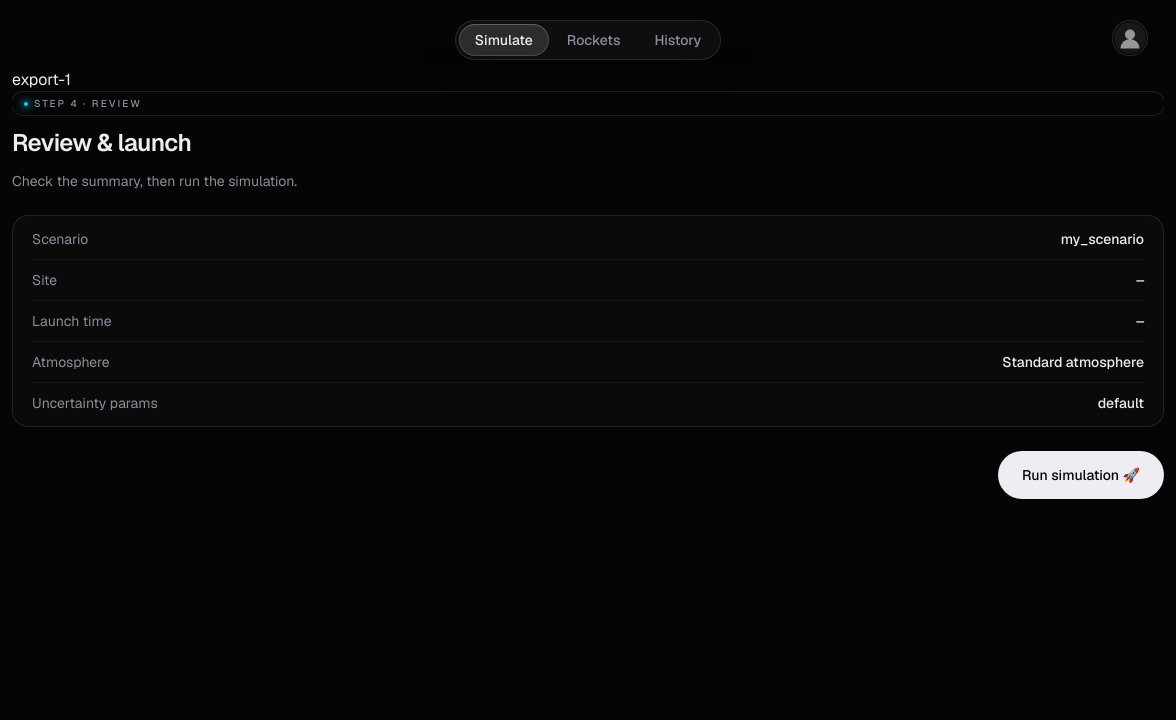
it: ReviewStep (issue #48 — shared simulate mutation) › shows field errors from a 422 without navigating
Check: the text with test id "export-id" reads "export-1", box top-left (12, 69), bottom-right (71, 90)
Click the button "Run simulation 🚀". click: (1081, 475)
box: top-left (998, 451), bottom-right (1164, 499)
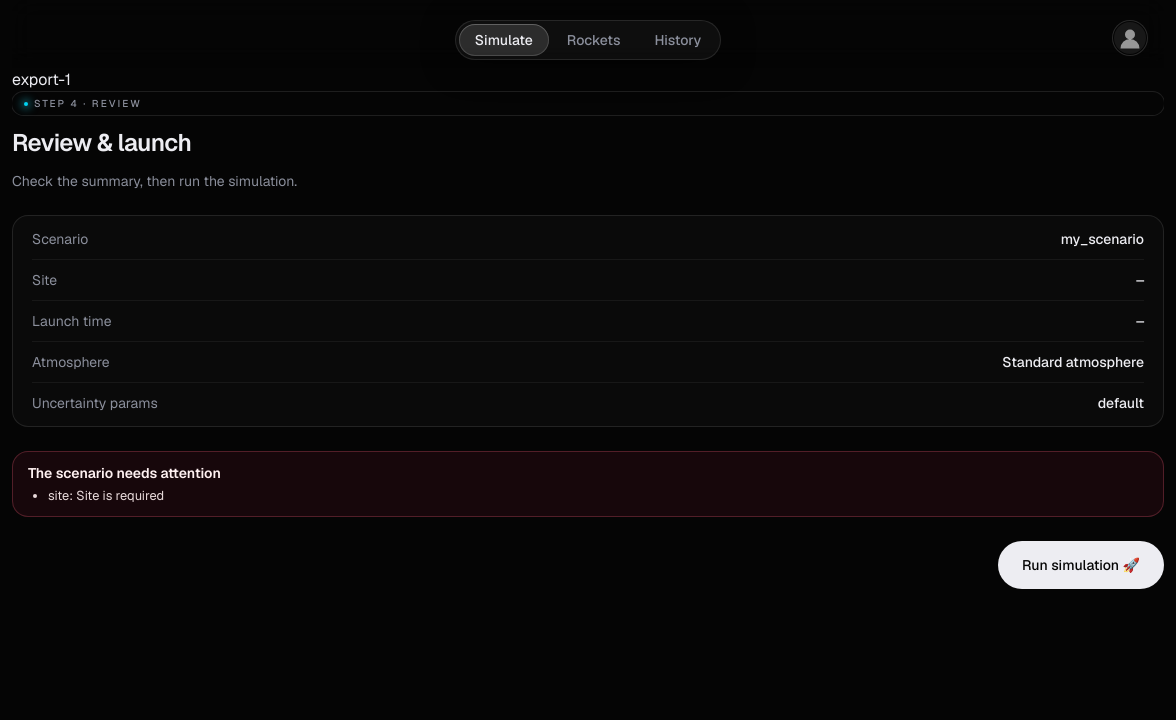
Check: the list item "site: Site is required" is shown, box top-left (48, 487), bottom-right (164, 504)
